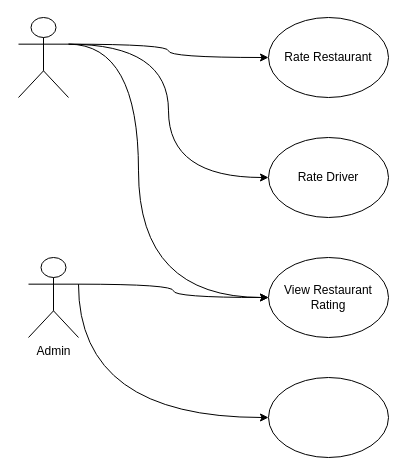
Image size: 406x475. Some labels were removed from this diagram. The centre of each missing label's shape, as x and y in pixels:
Customer: pixel 43 57
View Driver Ratings: pixel 328 417
